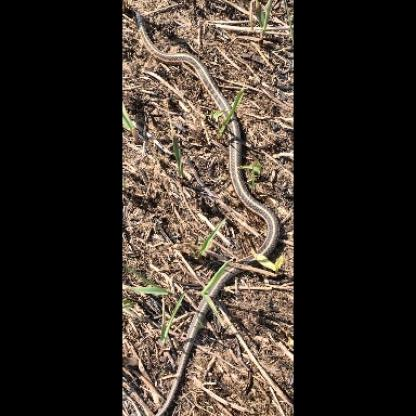Snake: (134, 8, 290, 323)
